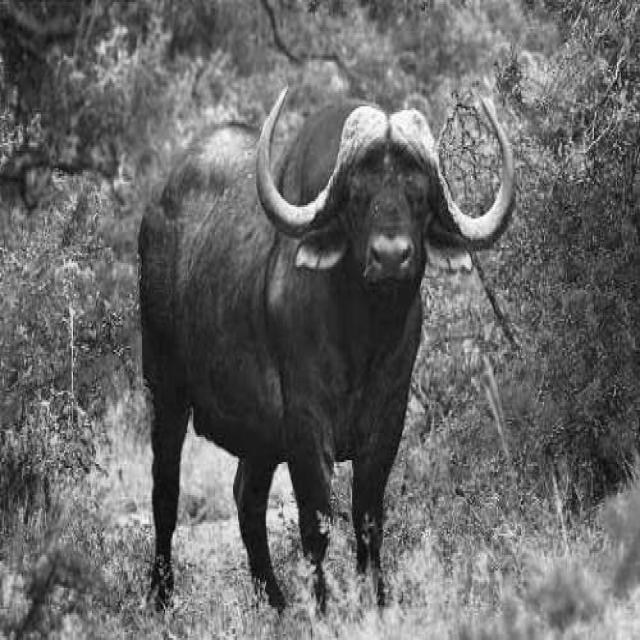Buffalo: (136, 83, 516, 623)
